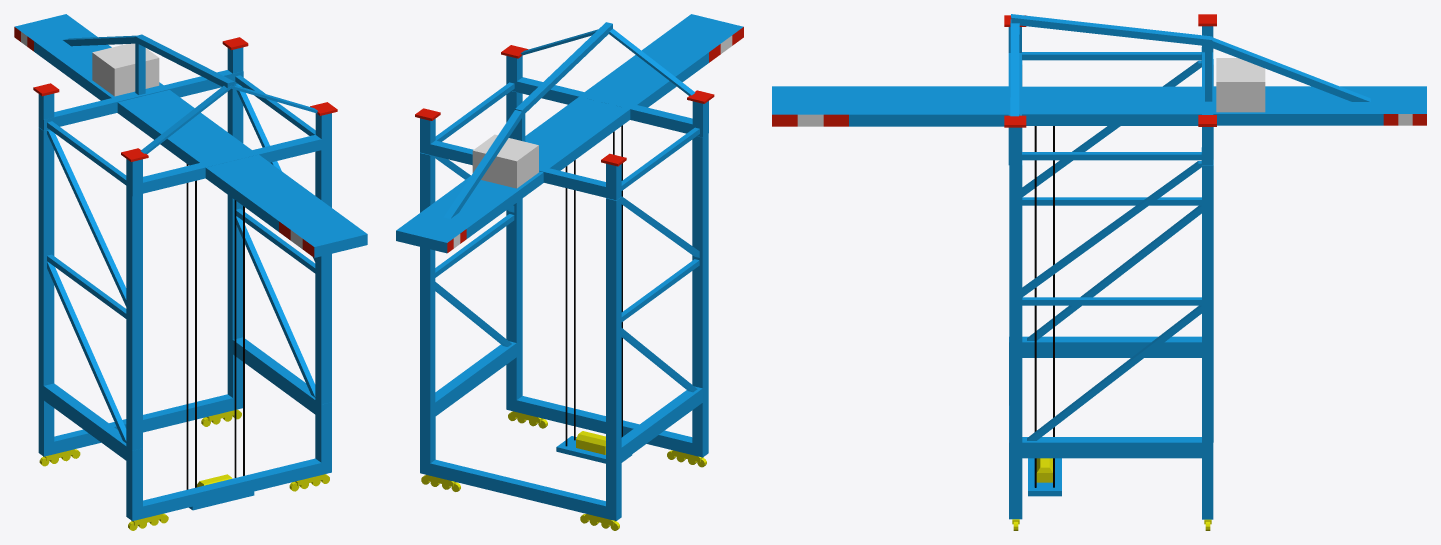
Rendered from QuayCrane.fbx.
3 renders of one model, left to right at view 1: azimuth 30°, elevation 25°; view 2: azimuth 150°, elevation 25°; view 3: azimuth 270°, elevation 25°, orthographic. The views are drawn at different scales.
Visible parts, largest first — view 1: qcMid, qcBase, qcTop, qcTopBack, beam, wires, wheel, wheel.001, spreader; view 2: qcMid, qcBase, qcTop, qcTopBack, beam, wires, spreader, wheel.001, wheel; view 3: qcMid, qcTop, qcTopBack, beam, qcBase, wires, spreader.
Boxes of the visible parts, x1=… form: qcMid: x1=38, y1=83, x2=331, y2=450; qcBase: x1=38, y1=336, x2=331, y2=520; qcTop: x1=41, y1=34, x2=337, y2=196; qcTopBack: x1=14, y1=14, x2=248, y2=130; beam: x1=205, y1=154, x2=367, y2=257; wires: x1=186, y1=164, x2=244, y2=489; wheel: x1=128, y1=474, x2=329, y2=530; wheel.001: x1=39, y1=409, x2=241, y2=466; spreader: x1=189, y1=474, x2=254, y2=510; qcMid: x1=420, y1=91, x2=708, y2=451; qcBase: x1=420, y1=339, x2=708, y2=520; qcTop: x1=435, y1=22, x2=714, y2=199; qcTopBack: x1=396, y1=108, x2=626, y2=253; beam: x1=585, y1=14, x2=743, y2=107; wires: x1=565, y1=125, x2=622, y2=446; spreader: x1=556, y1=431, x2=632, y2=463; wheel.001: x1=421, y1=475, x2=619, y2=530; wheel: x1=508, y1=411, x2=706, y2=467; qcMid: x1=1009, y1=59, x2=1213, y2=442; qcTop: x1=1004, y1=14, x2=1212, y2=165; qcTopBack: x1=1198, y1=14, x2=1426, y2=164; beam: x1=772, y1=86, x2=1008, y2=126; qcBase: x1=1009, y1=336, x2=1213, y2=519; wires: x1=1034, y1=126, x2=1054, y2=487; spreader: x1=1028, y1=458, x2=1061, y2=496.
Bounding box in the file's own units: 1535 × 3026 × 3870.
